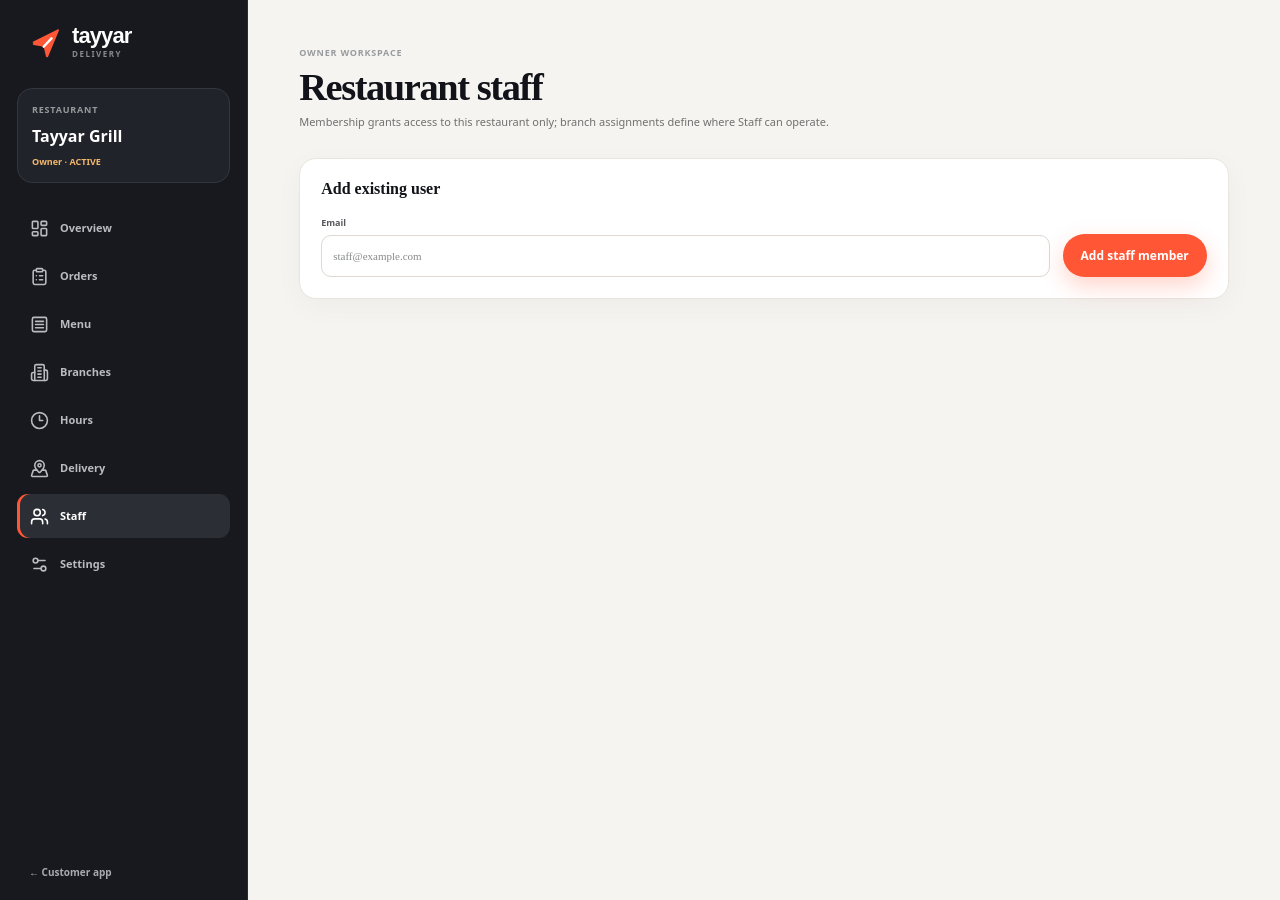
Scenario: keeps duplicate membership conflict visible
In the field labelled "Email": (685, 256) x1=321 y1=235 x2=1050 y2=277, type "nour@example.com"
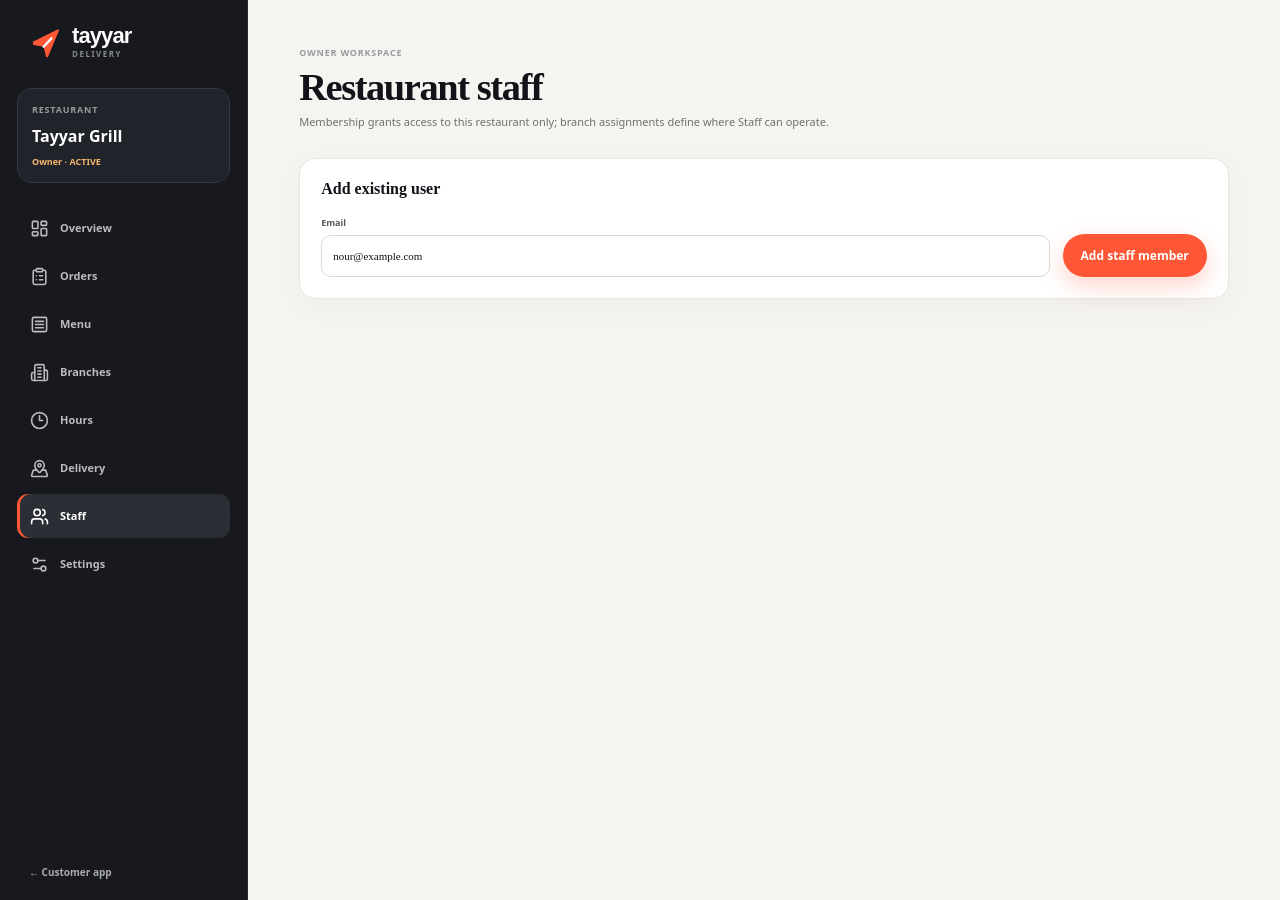
Click the button "Add staff member": (1135, 256) x1=1063 y1=234 x2=1207 y2=277
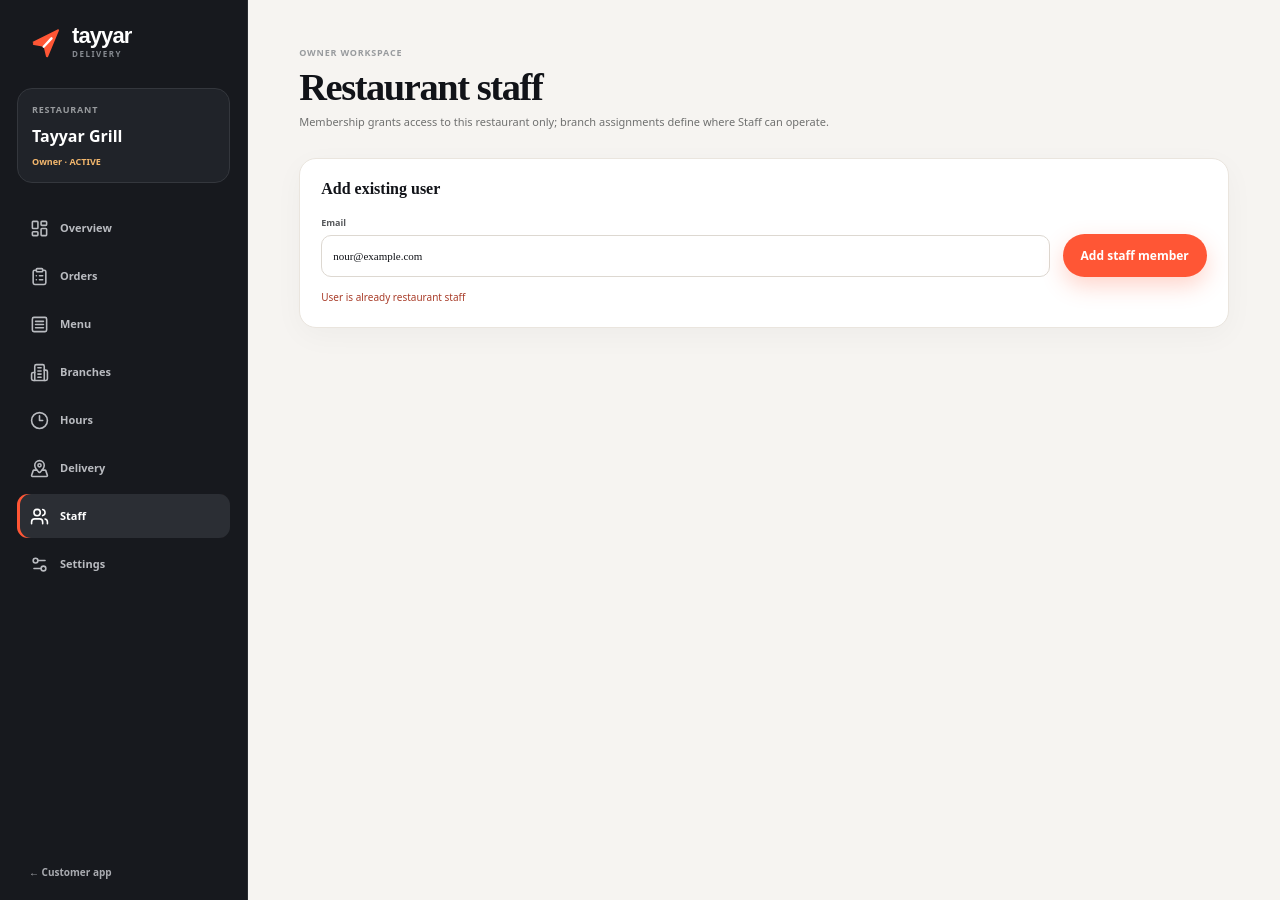
Expected: the text "User is already restaurant staff" is shown, x1=321 y1=290 x2=466 y2=304
